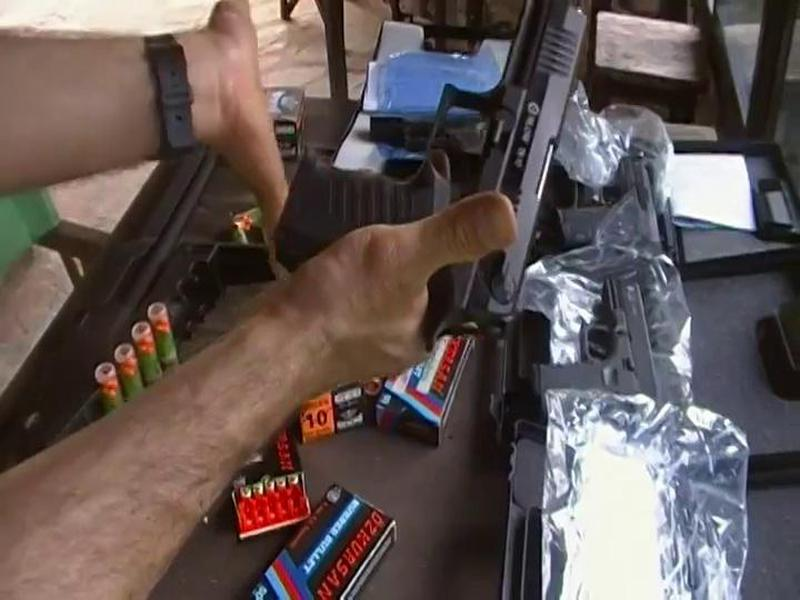Pistola: (271, 1, 618, 340)
